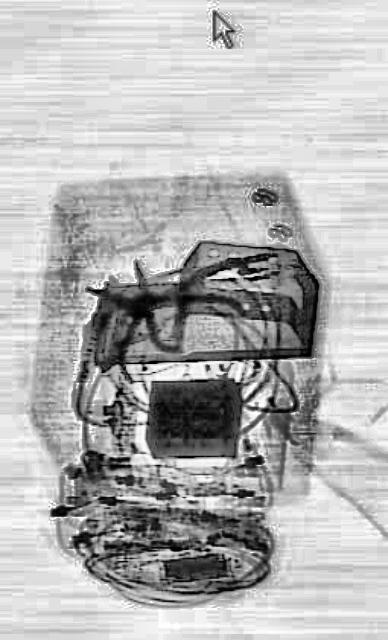Pliers: (69, 188, 245, 442)
